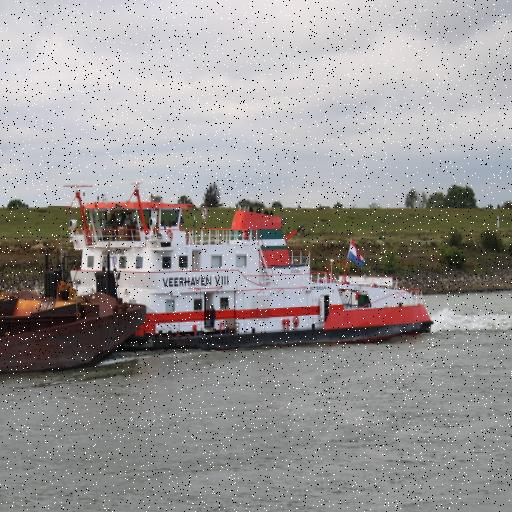tugboat: (41, 180, 438, 359)
